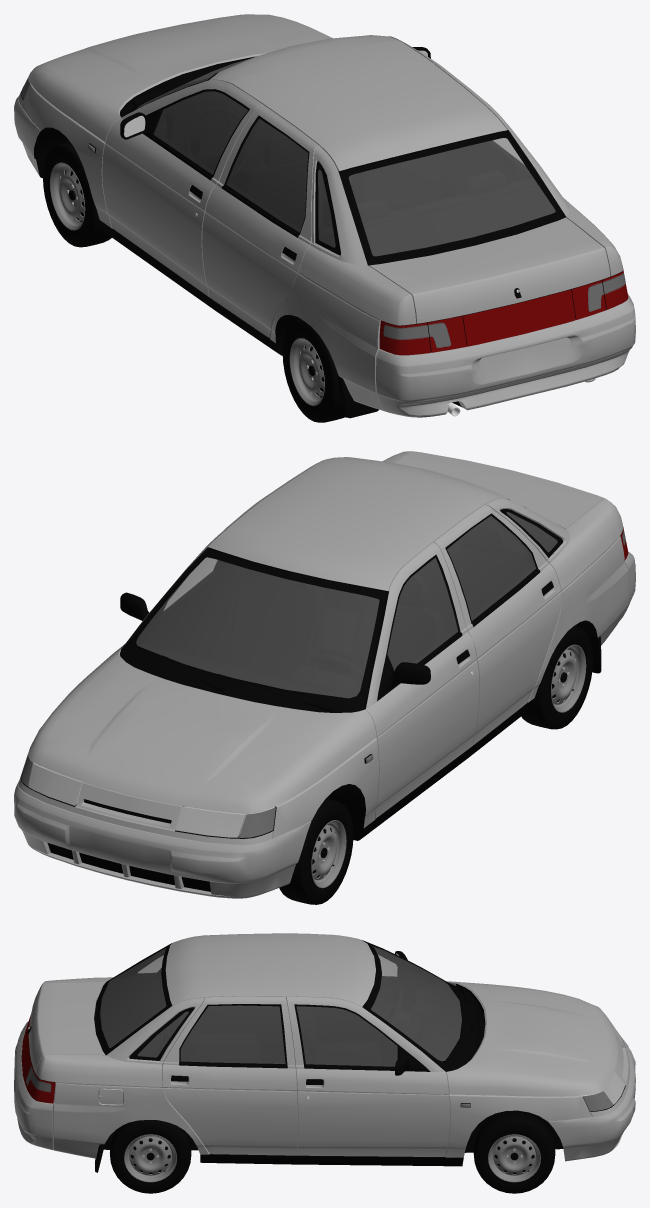
3 renders of one model, top to bottom at view 1: azimuth 30°, elevation 25°; view 2: azimuth 150°, elevation 25°; view 3: azimuth 270°, elevation 25°, orthographic. The views are drawn at different scales.
Parts seen in each view (by area): view 1: body, focus int., bumper, headlight, wheel_RL, wheel_FL, blenda, mirror, mudflaps; view 2: body, focus int., bumper, wheel_FL, wheel_RL, headlight, grid, mirror, wipper; view 3: body, focus int., bumper, wheel_FR, wheel_RR, headlight, mirror, grid.
Boxes of the visible parts, left/top/right/bottom form: body: left=20, top=14, right=628, bottom=411; focus int.: left=137, top=77, right=555, bottom=256; bumper: left=14, top=92, right=635, bottom=417; headlight: left=21, top=77, right=628, bottom=355; wheel_RL: left=282, top=318, right=344, bottom=422; wheel_FL: left=43, top=141, right=111, bottom=247; blenda: left=462, top=289, right=575, bottom=346; mirror: left=120, top=47, right=430, bottom=139; mudflaps: left=337, top=376, right=378, bottom=418; body: left=20, top=451, right=628, bottom=840; focus int.: left=136, top=512, right=557, bottom=698; bumper: left=14, top=551, right=635, bottom=898; wheel_FL: left=279, top=798, right=353, bottom=904; wheel_RL: left=521, top=625, right=593, bottom=729; headlight: left=21, top=527, right=628, bottom=837; grid: left=76, top=782, right=183, bottom=829; mirror: left=120, top=592, right=430, bottom=697; wipper: left=133, top=644, right=332, bottom=712; body: left=21, top=933, right=625, bottom=1166; focus int.: left=100, top=946, right=461, bottom=1066; bumper: left=14, top=1021, right=635, bottom=1161; wheel_FR: left=473, top=1112, right=555, bottom=1193; wheel_RR: left=110, top=1120, right=191, bottom=1193; headlight: left=23, top=1013, right=625, bottom=1111; mirror: left=395, top=951, right=426, bottom=1075; grid: left=614, top=1034, right=627, bottom=1083.
Bounding box in the file's own units: 1.9 × 4.37 × 1.45.
